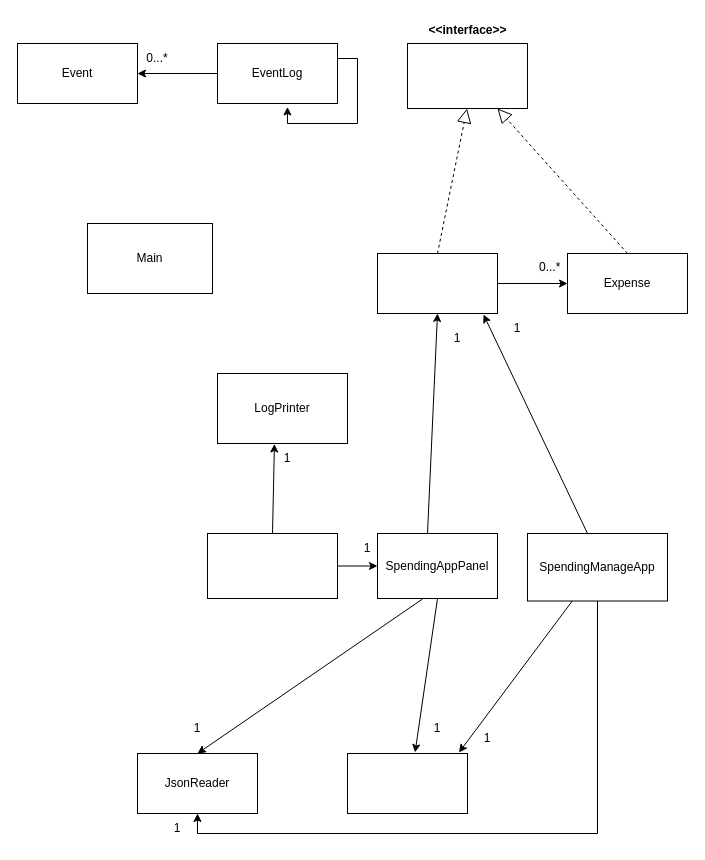
Image size: 705x860. Some labels were removed from this diagram. The centre of each missing label's shape, as x and y in pixels:
JsonWriter: pixel 407 783
ListOfExpense: pixel 437 283
SpendingAppFrame: pixel 272 565
WriteToJson: pixel 467 75
